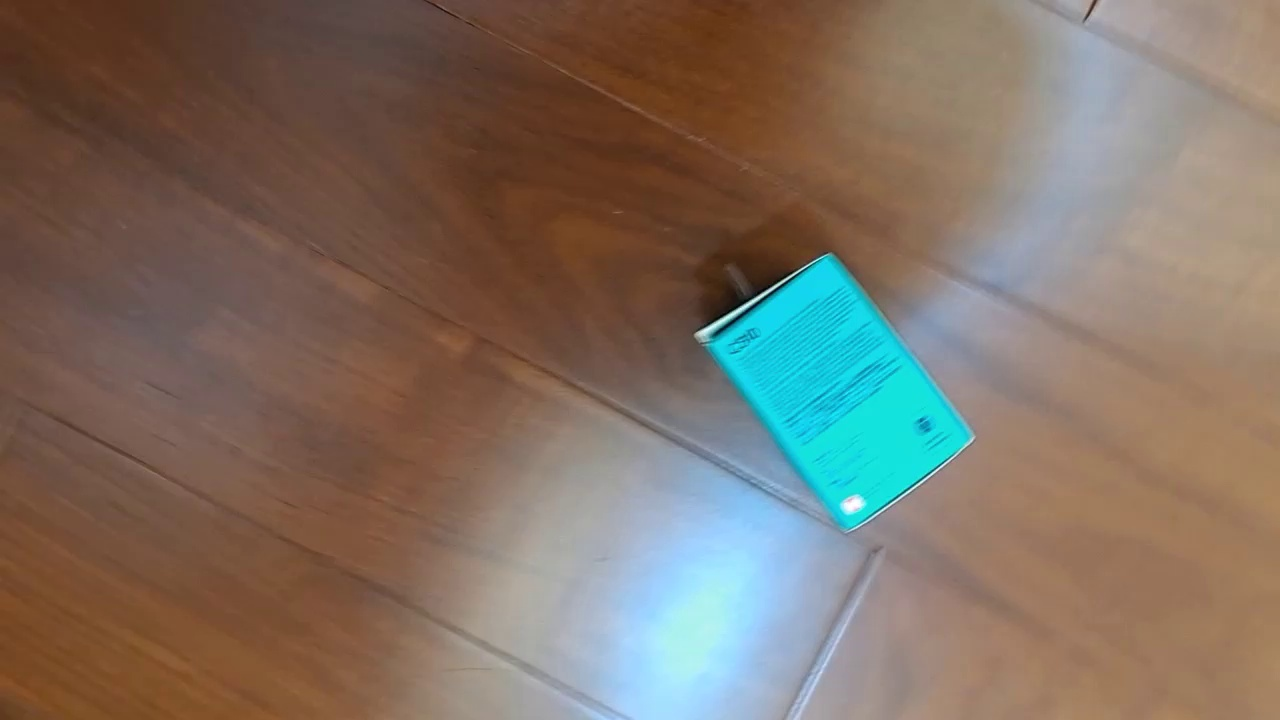webcam: (693, 251, 976, 535)
